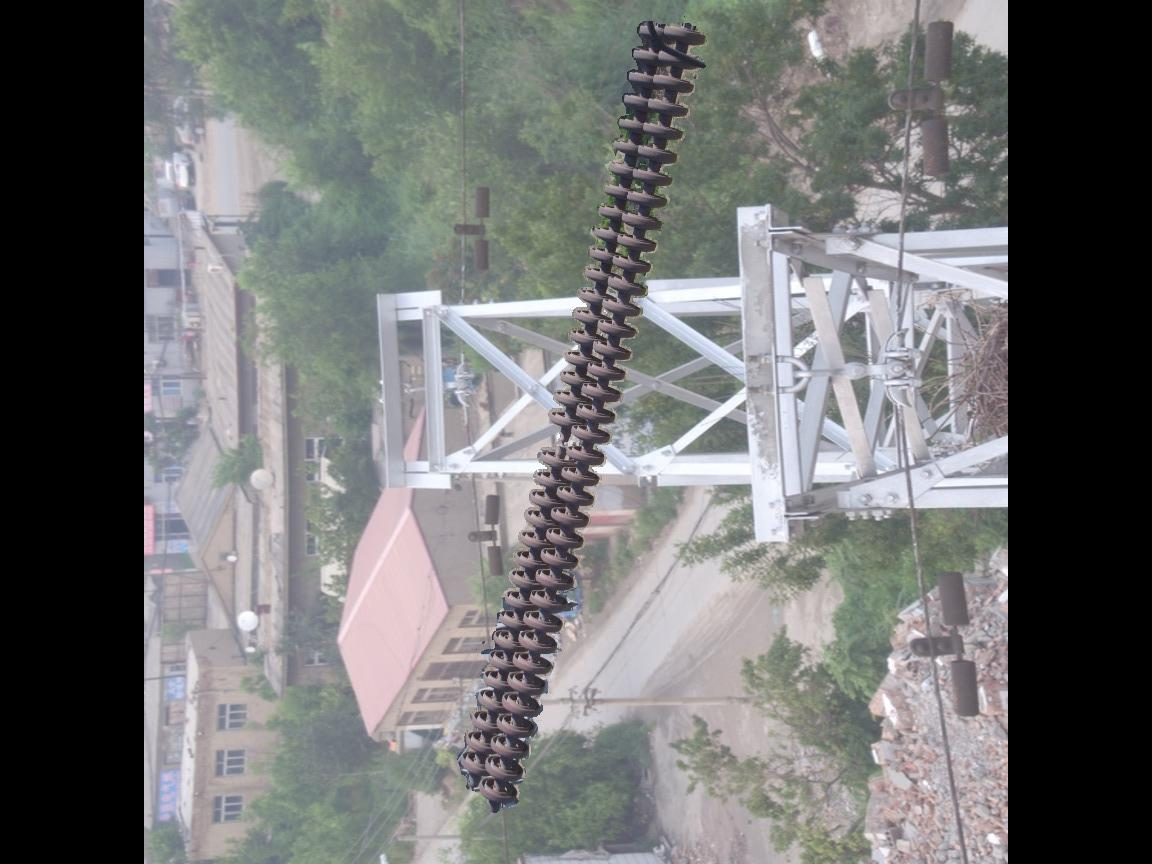insulator: (455, 20, 707, 807)
insulator_stringdrop: (532, 405, 587, 473)
